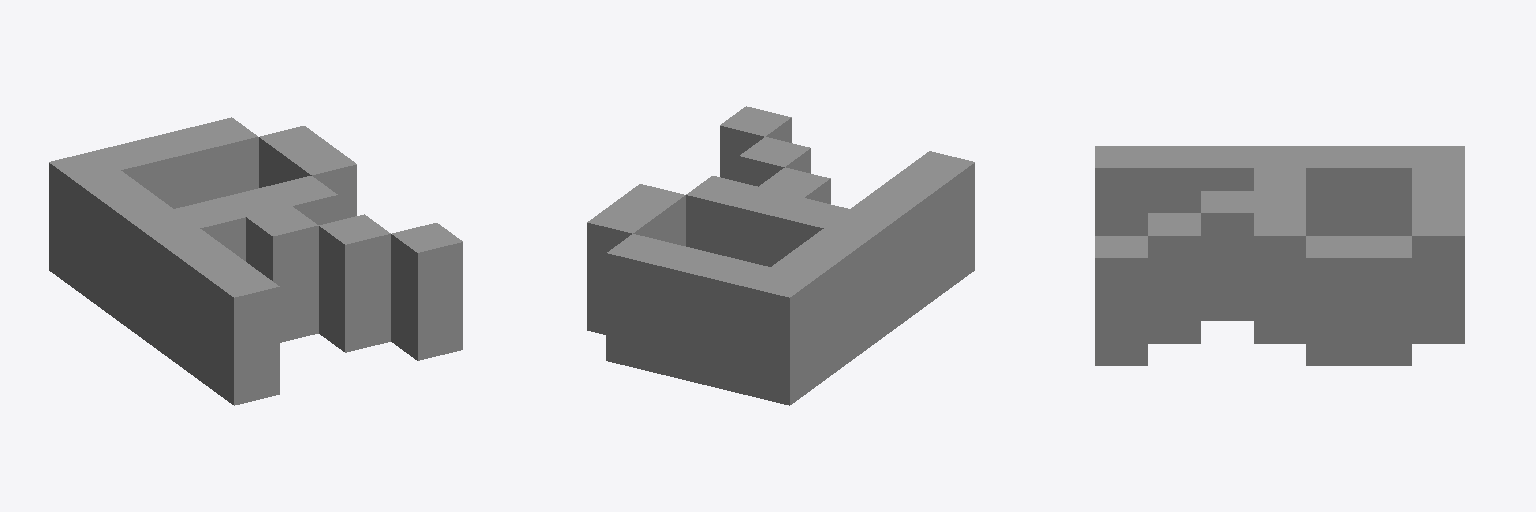
3 views of the same model, side by side, from view 1: azimuth 30°, elevation 25°; view 2: azimuth 150°, elevation 25°; view 3: azimuth 270°, elevation 25° (orthographic).
Visible parts, largest first — view 1: R_CUABC.018; view 2: R_CUABC.018; view 3: R_CUABC.018.
Part boxes in pixels (left/top/right/bottom): R_CUABC.018: left=49, top=117, right=462, bottom=405; R_CUABC.018: left=587, top=106, right=974, bottom=405; R_CUABC.018: left=1095, top=146, right=1464, bottom=365.
Size of the model in its own units: 0.5556 by 0.25 by 0.7778.